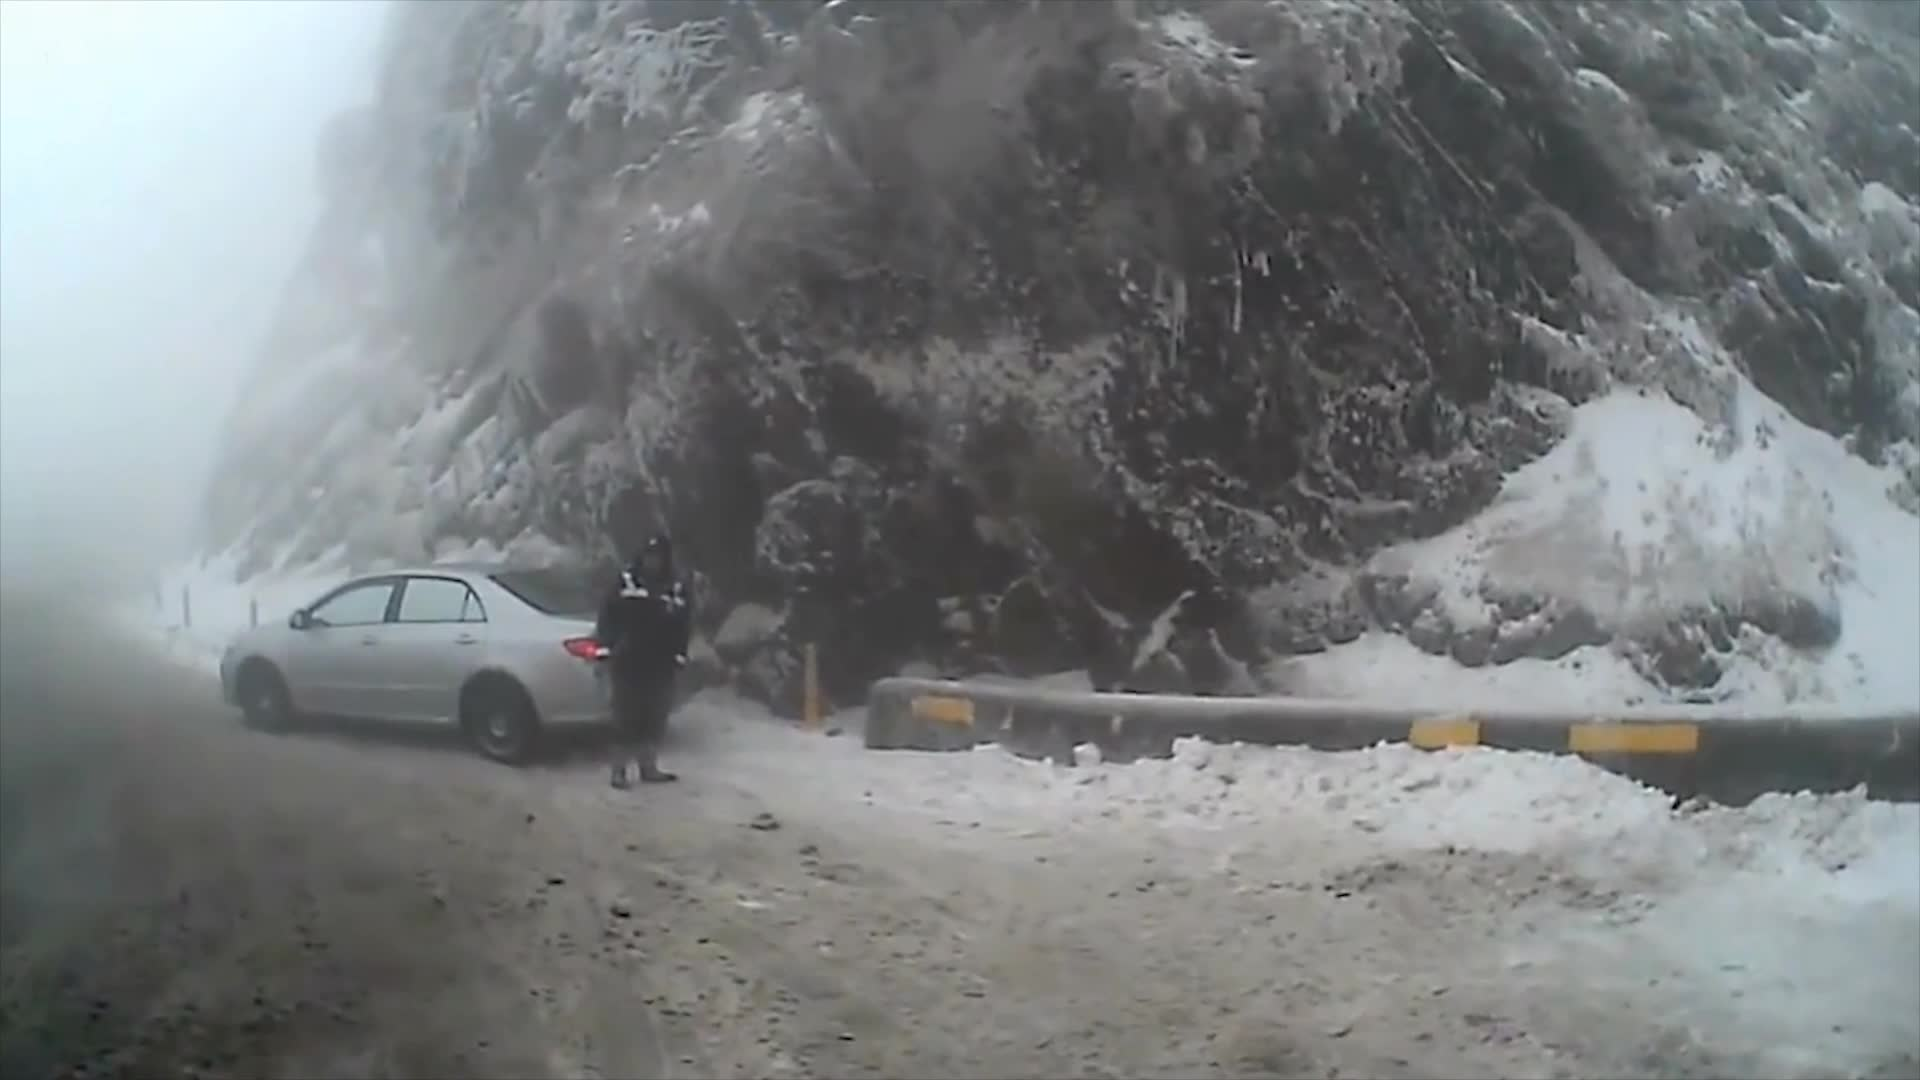pedestrian: (601, 537, 695, 791)
vehicle: (219, 561, 693, 766)
